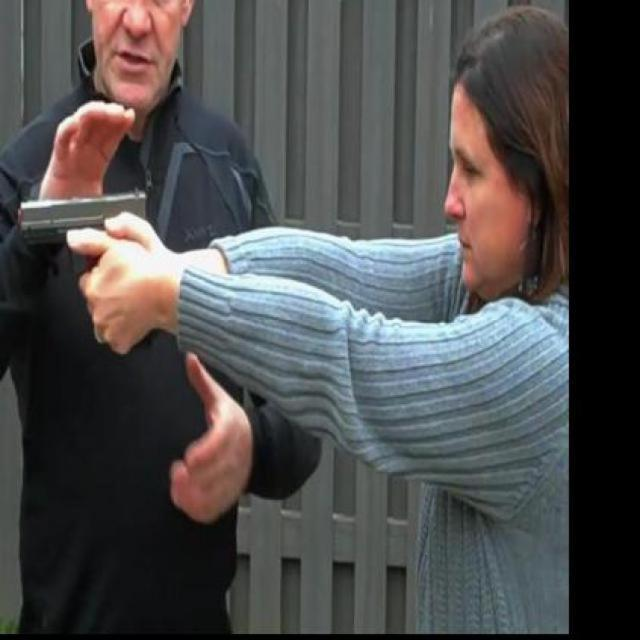pistol: (13, 186, 156, 350)
